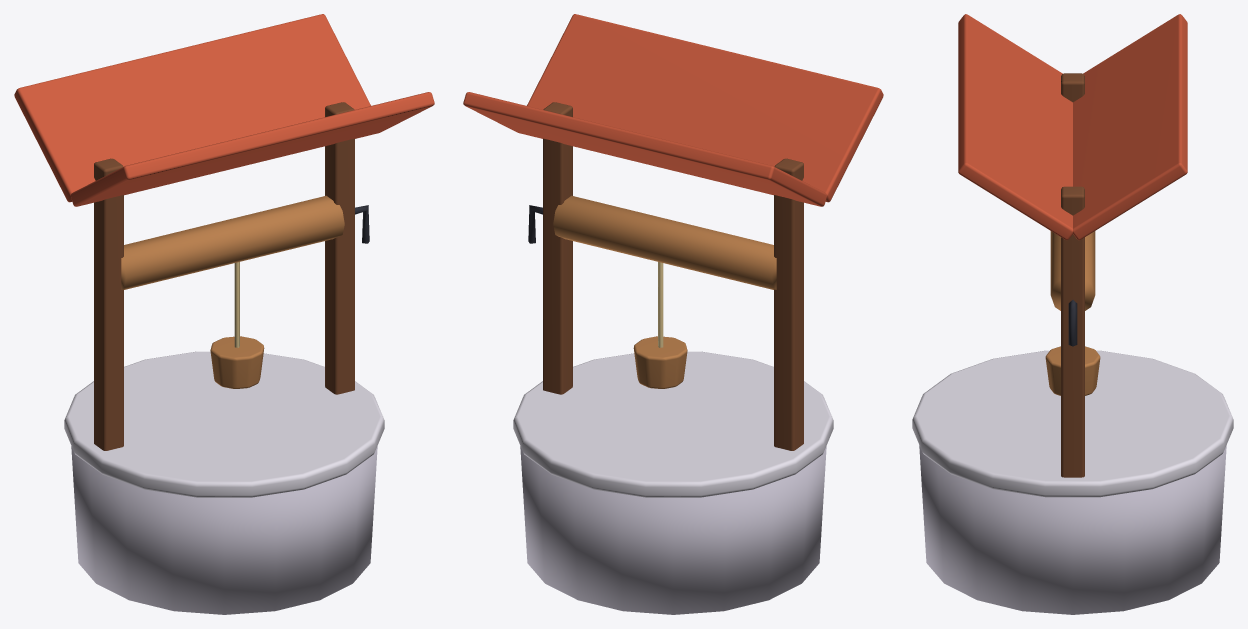
File: faire_well.glb
The picture shows the model from 3 angles, left to right: view 1: azimuth 30°, elevation 25°; view 2: azimuth 150°, elevation 25°; view 3: azimuth 270°, elevation 25°; orthographic projection.
Parts seen in each view (by area): view 1: Well; view 2: Well; view 3: Well.
Boxes of the visible parts, <box> form: Well: <box>14,14,434,614</box>; Well: <box>463,14,883,614</box>; Well: <box>912,14,1233,614</box>.
Bounding box in the file's own units: 2.4 × 3.44 × 2.16.
